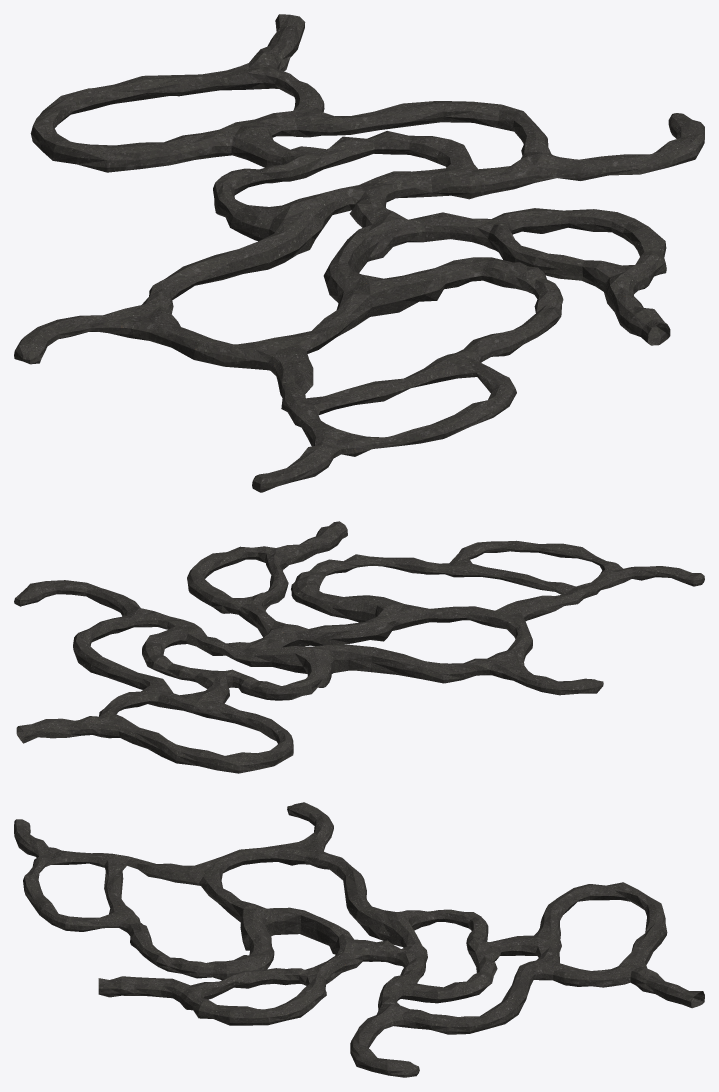
Rendered from cave.fbx.
The picture shows the model from 3 angles, top to bottom: view 1: azimuth 30°, elevation 25°; view 2: azimuth 150°, elevation 25°; view 3: azimuth 270°, elevation 25°; orthographic projection. The views are drawn at different scales.
Parts seen in each view (by area): view 1: Cube; view 2: Cube; view 3: Cube.
Boxes of the visible parts, bbox=[...] form: Cube: bbox=[14, 14, 704, 492]; Cube: bbox=[14, 521, 704, 773]; Cube: bbox=[14, 802, 704, 1077].
Bounding box in the file's own units: 5880 × 292 × 6415.
Materials: 1 (1 with a texture image).
